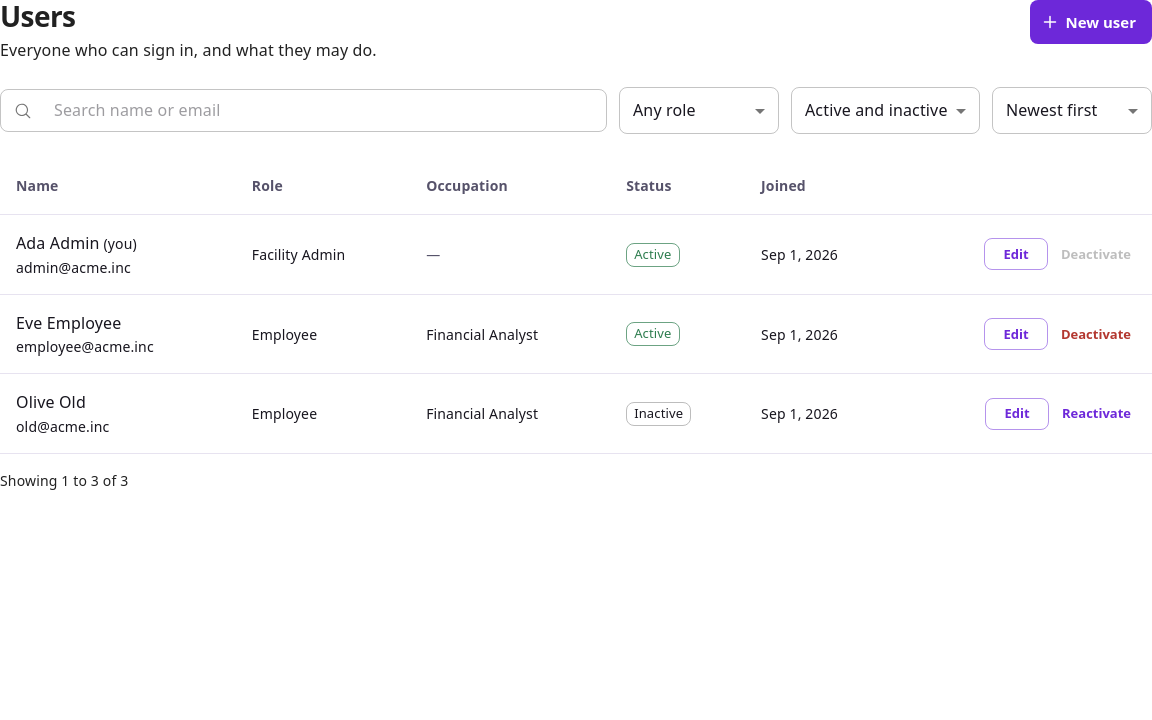
UsersPage › deactivates after confirmation and shows the API refusal otherwise
Expected: the text "Showing 1 to 3 of 3" is shown, [0, 470, 128, 491]
Click the button "Deactivate" in the row of "Eve Employee" at (1096, 334), box [1056, 318, 1136, 350]
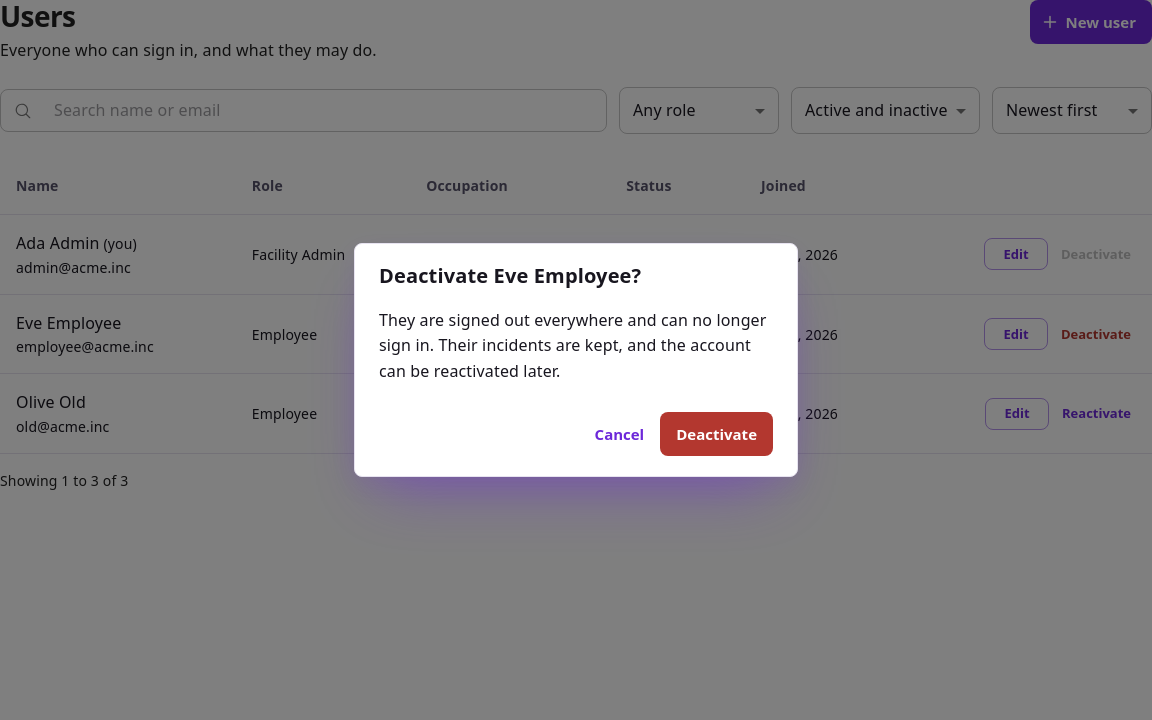
Expected: the heading "Deactivate Eve Employee?" is shown, [379, 262, 641, 289]
Click the button "Deactivate" at (717, 434), box [660, 412, 773, 456]
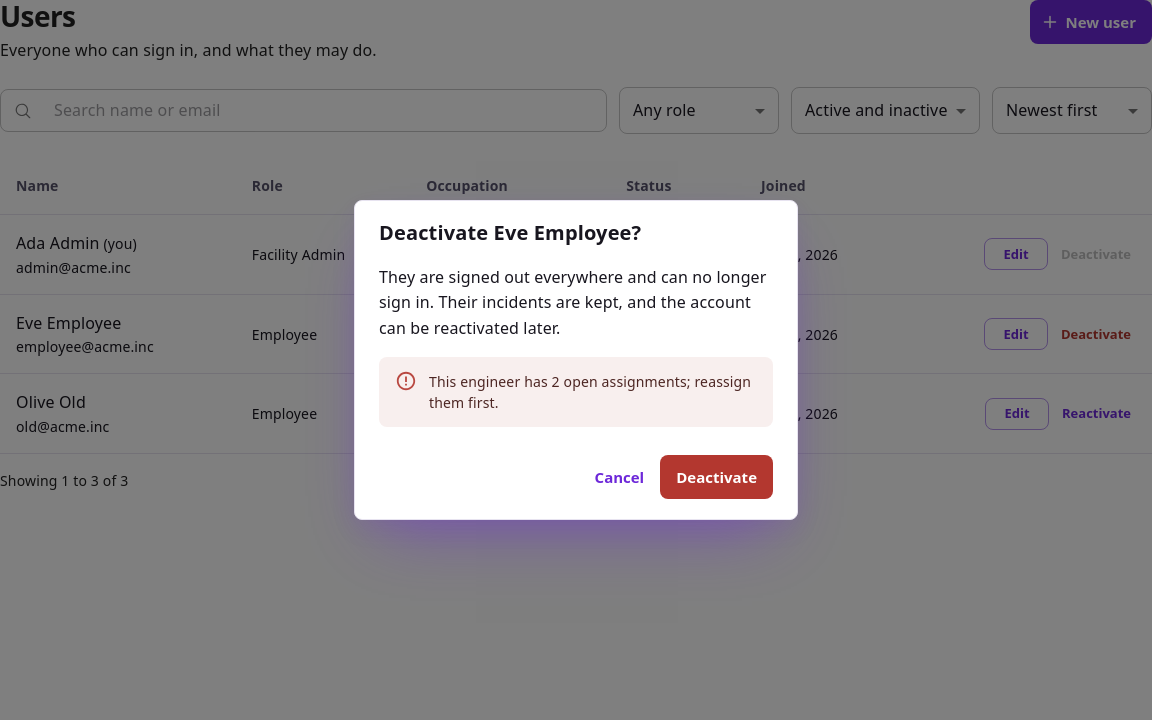
Expected: the message shows "reassign them first", [429, 372, 751, 412]
Click the button "Deactivate" at (717, 477), box [660, 455, 773, 499]
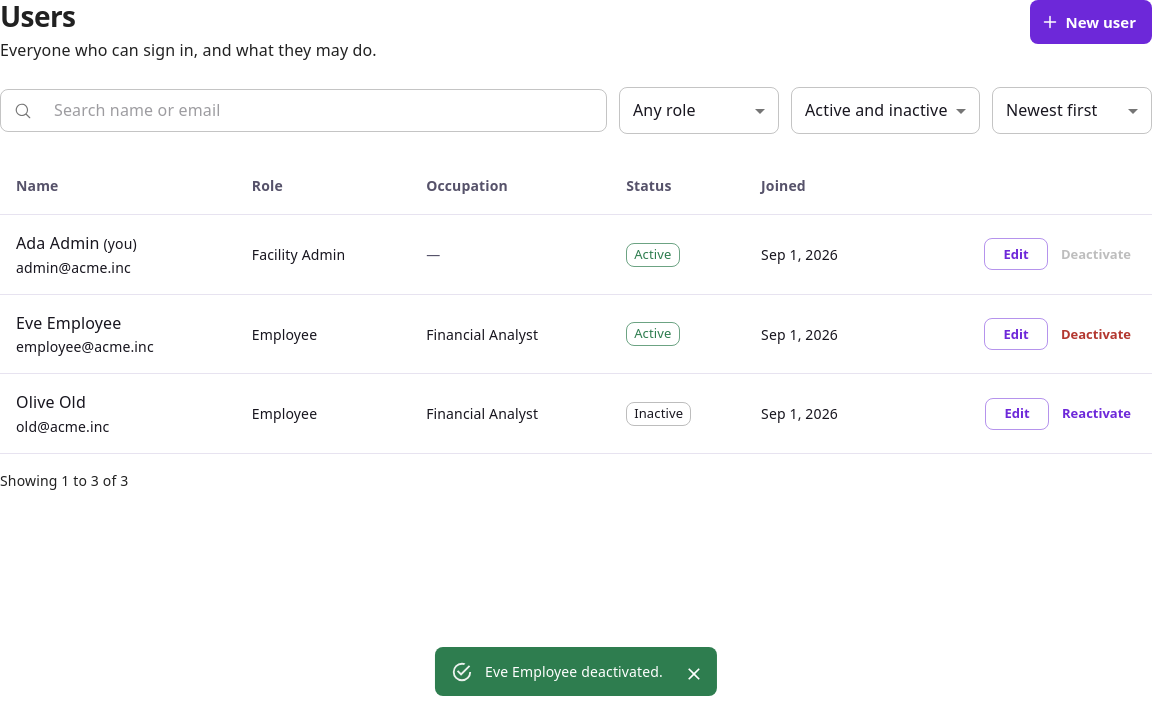
Expected: the text "Eve Employee deactivated." is shown, [485, 662, 663, 681]
